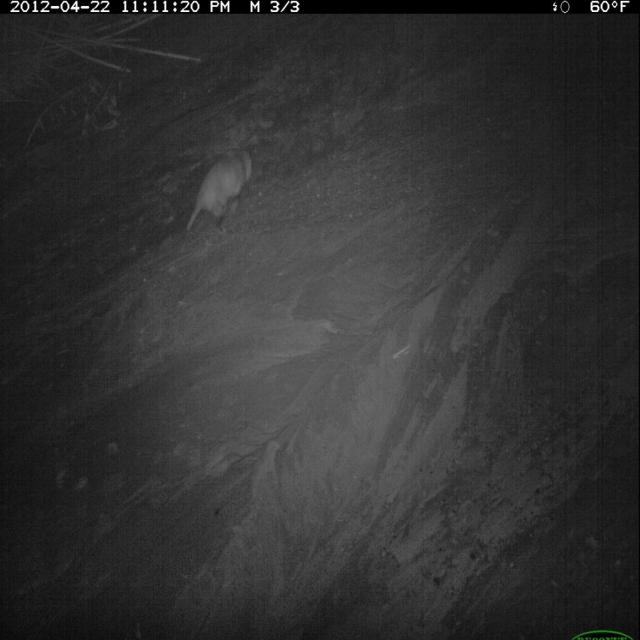opossum: (180, 147, 257, 254)
